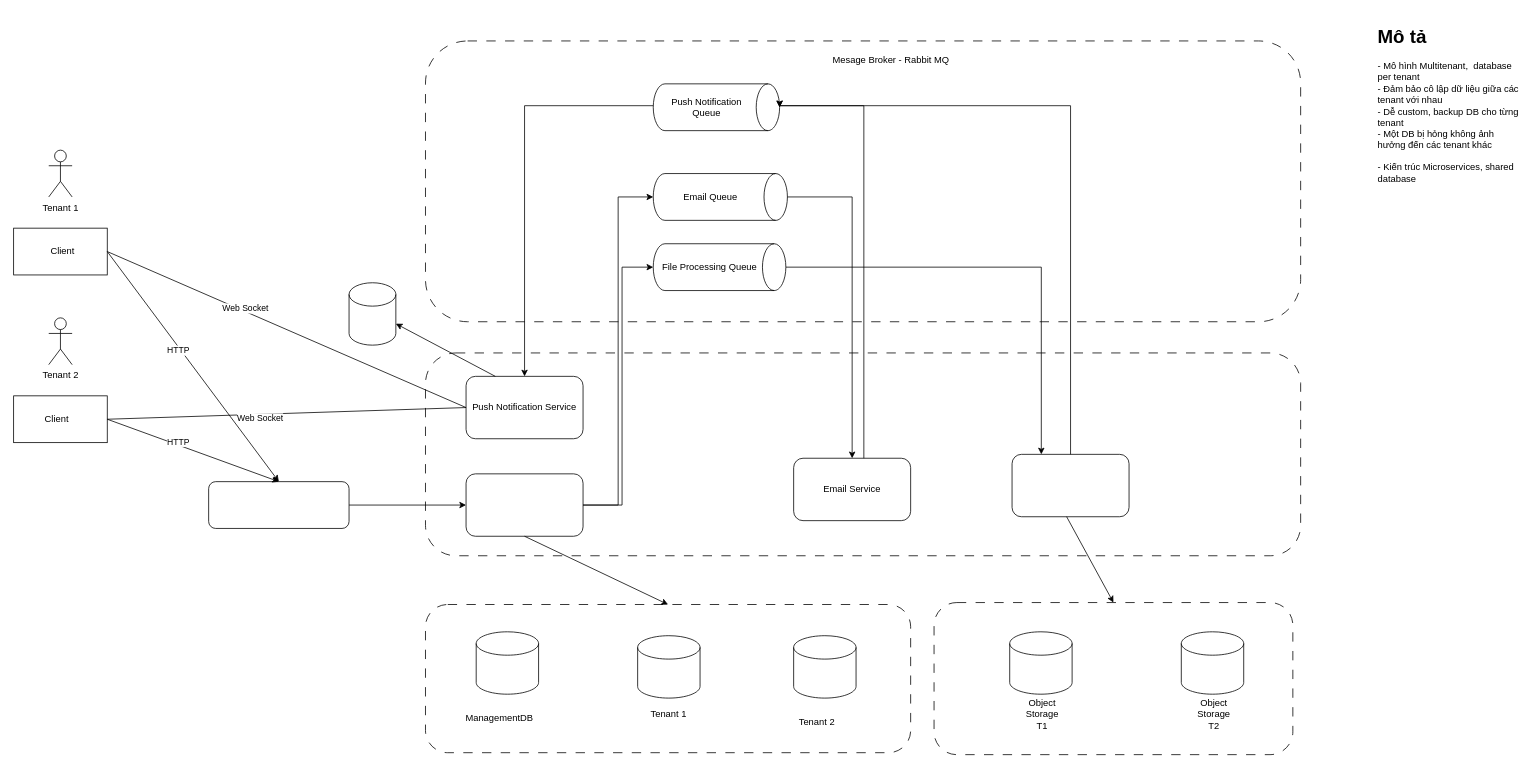
This 1536x768 diagram has some shape labels left out. The shapes that lost their labels are listed below. From the top down, each one's centre as x and y in pixels, then its label:
the point at 372,313: Redis
the point at 278,504: Load Balancer
the point at 524,504: Application API Service
the point at 1070,485: File Processing Service
